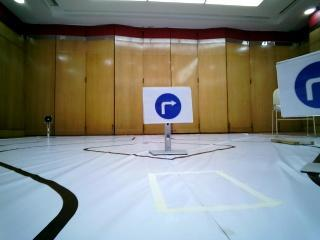right: (144, 89, 192, 120)
